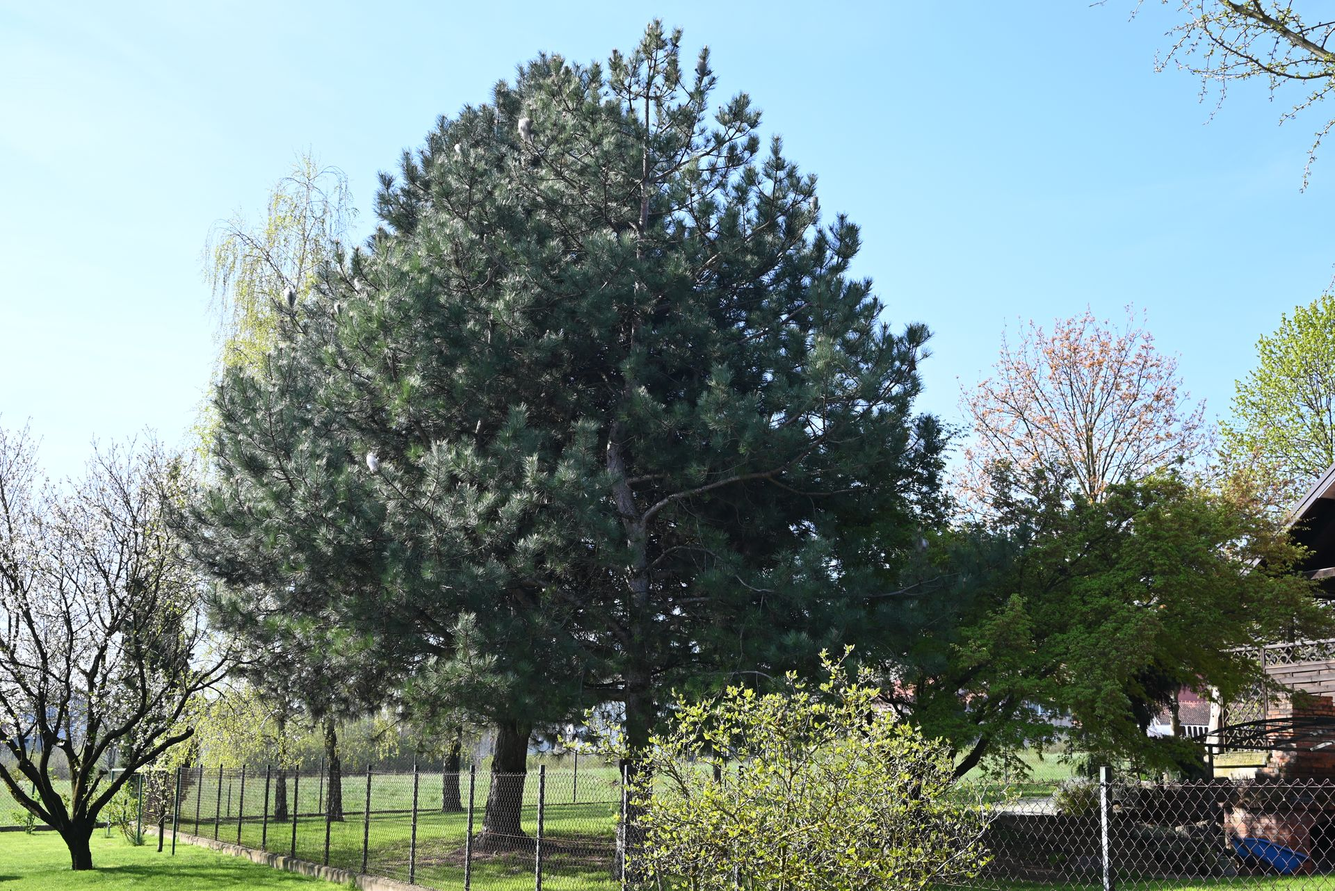thaumatopoea pityocampa jajno gnijezdo: (361, 449, 386, 477), (514, 113, 538, 142), (449, 139, 469, 161), (283, 290, 297, 316)
